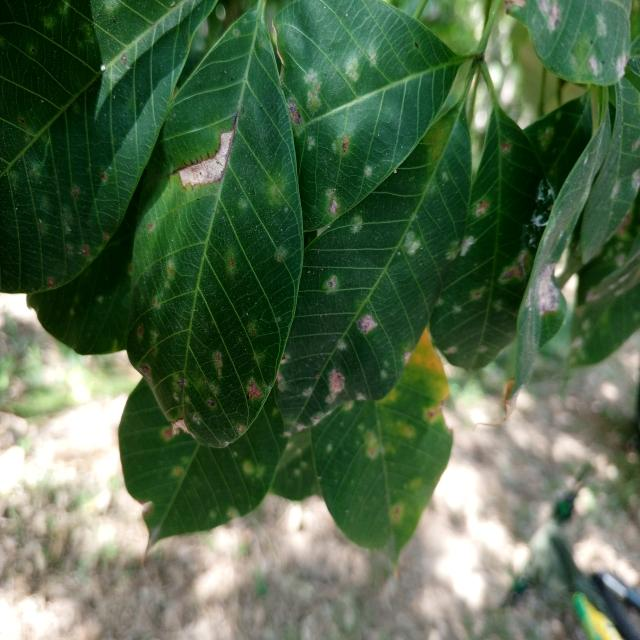Corynespora: (222, 111, 238, 182), (167, 152, 210, 176)
Leaf-Blight: (179, 131, 232, 188), (171, 418, 191, 435)
